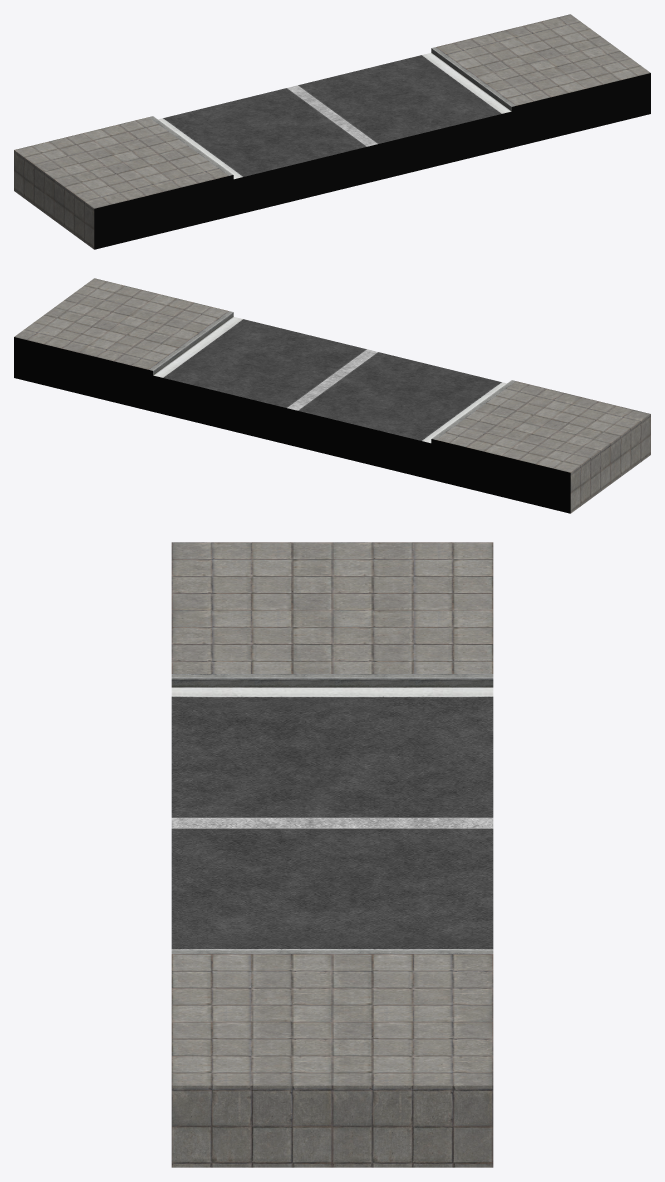
File: SingleStraightShort3_high.fbx
3 views of the same model, one above another, from view 1: azimuth 30°, elevation 25°; view 2: azimuth 150°, elevation 25°; view 3: azimuth 270°, elevation 25° (orthographic). The views are drawn at different scales.
Visible parts, largest first — view 1: materialC150, materialB150, materialA150, materialD150, materialF150; view 2: materialC150, materialB150, materialA150, materialD150, materialF150; view 3: materialC150, materialA150, materialF150, materialD150.
Part boxes in pixels (<box>): materialC150: <box>14,14,650,249</box>; materialB150: <box>94,73,650,249</box>; materialA150: <box>158,52,511,179</box>; materialD150: <box>149,47,515,175</box>; materialF150: <box>431,48,511,111</box>; materialC150: <box>14,278,650,513</box>; materialB150: <box>14,337,570,513</box>; materialA150: <box>153,316,506,443</box>; materialD150: <box>149,311,515,439</box>; materialF150: <box>153,312,233,375</box>; materialC150: <box>171,542,493,1167</box>; materialA150: <box>171,687,493,949</box>; materialF150: <box>171,678,493,687</box>; materialD150: <box>171,674,493,953</box>.
Size of the model in its own units: 25.6 by 1.8 by 6.4.
